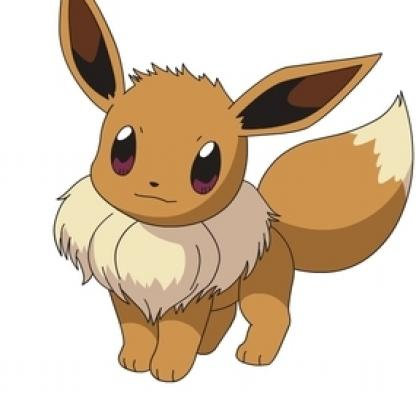Eevee: (19, 1, 416, 374)
